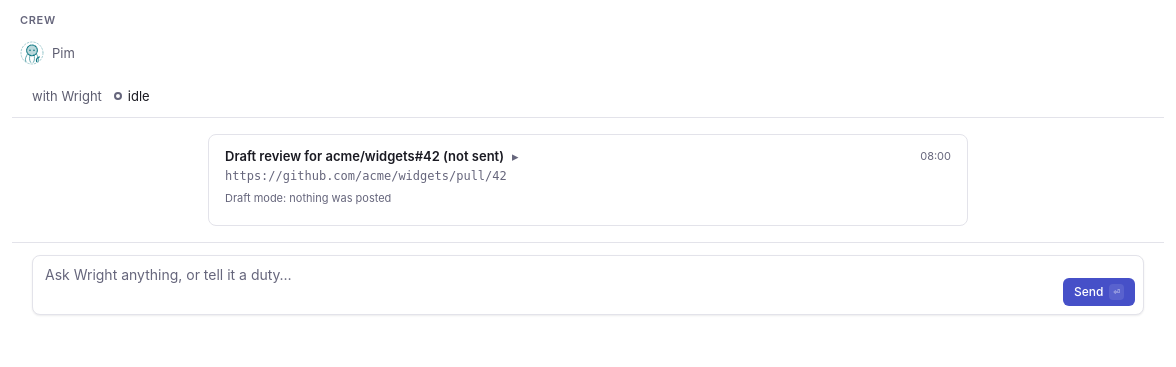
draft card › expanding fetches GET /drafts/:id once, and shows the body from that read
Expected: the text "Draft review for acme/widgets#42 (not sent)" is shown, [225,147,504,165]
Click the button "Draft review for acme/widgets#42 (not sent)" at (372, 156), box [225,147,519,165]
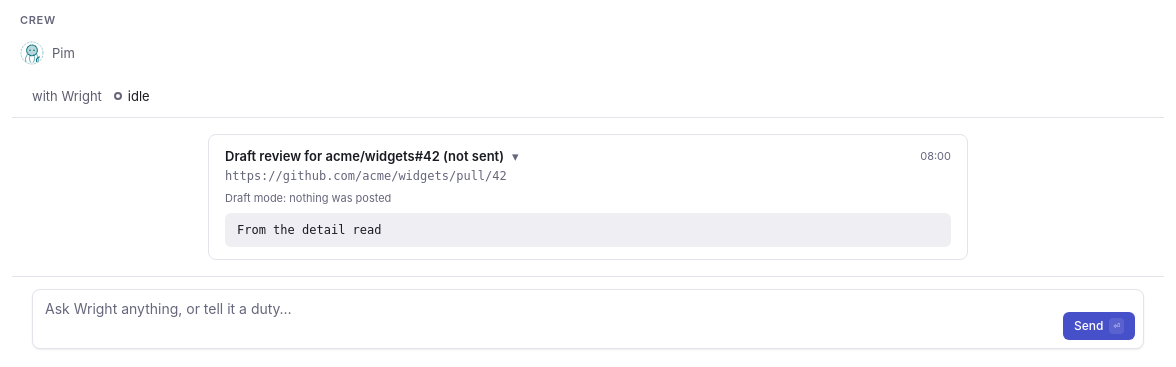
Now the button "Draft review for acme/widgets#42 (not sent)" is expanded
Now the text "From the detail read" is shown, box [225,213,951,247]
Click the button "Draft review for acme/widgets#42 (not sent)" at (372, 156), box [225,147,519,165]
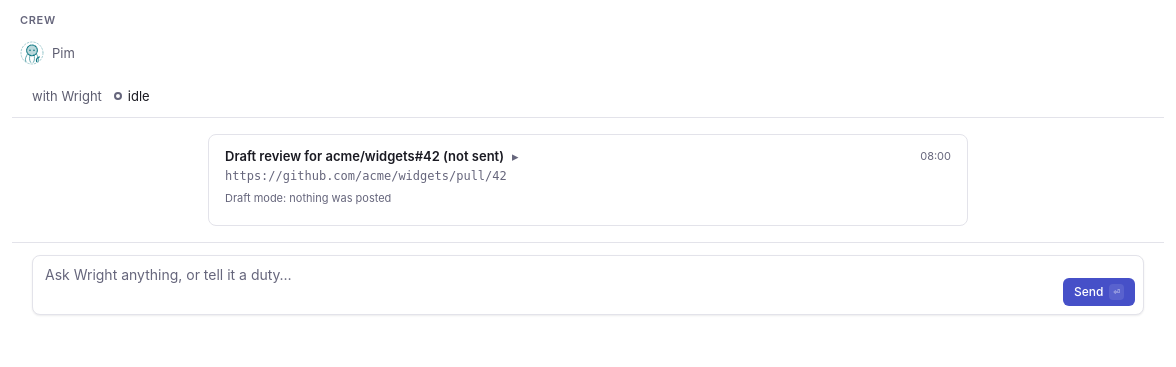
Now the button "Draft review for acme/widgets#42 (not sent)" is collapsed
Click the button "Draft review for acme/widgets#42 (not sent)" at (372, 156), box [225,147,519,165]
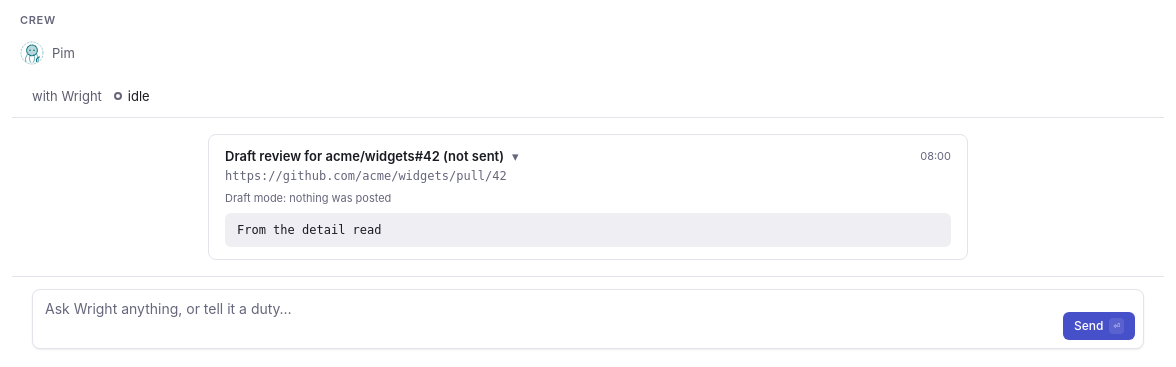
Now the text "From the detail read" is shown, box [225,213,951,247]
